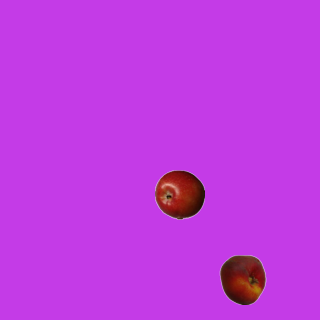Apple Braeburn: (154, 169, 204, 219)
Nectarine Flat: (217, 254, 267, 304)
